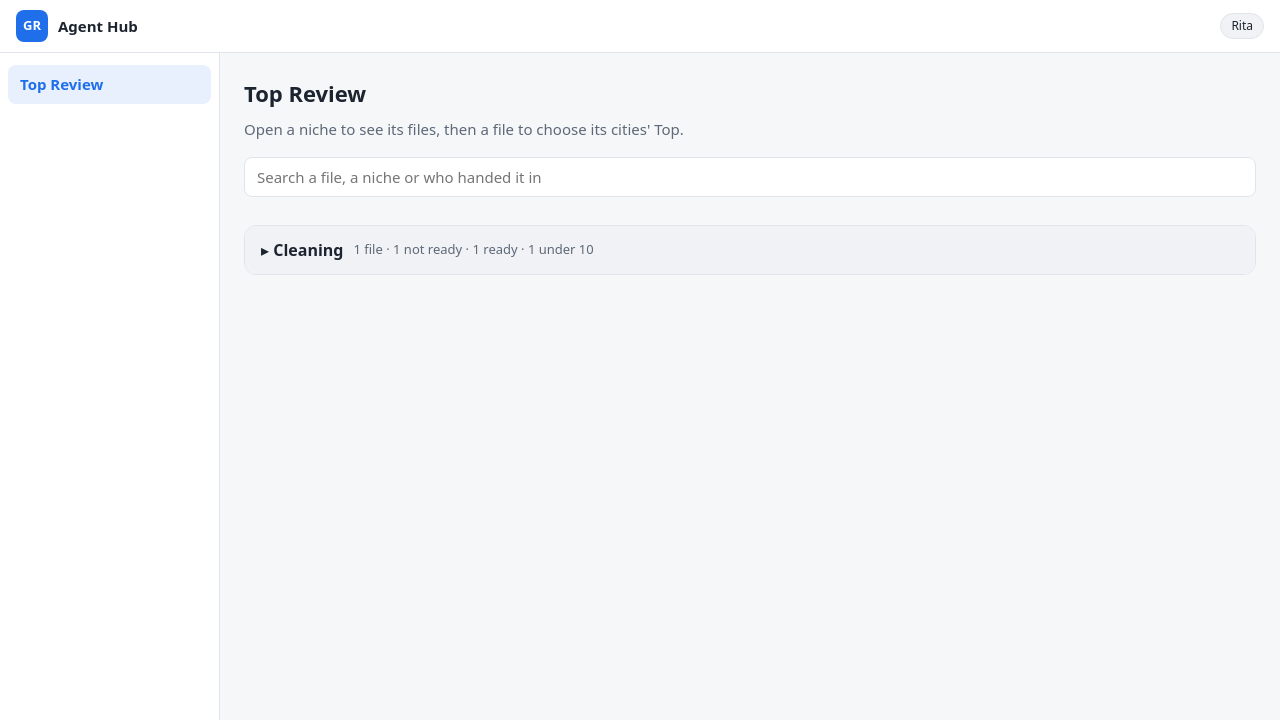
Test: the keyboard ticks and saves: Space, then Enter
The image size is (1280, 720).
Click the button "▸ Cleaning 1 file · 1 not ready · 1 ready · 1 under 10" at (308,250), box x1=245 y1=226 x2=1255 y2=274
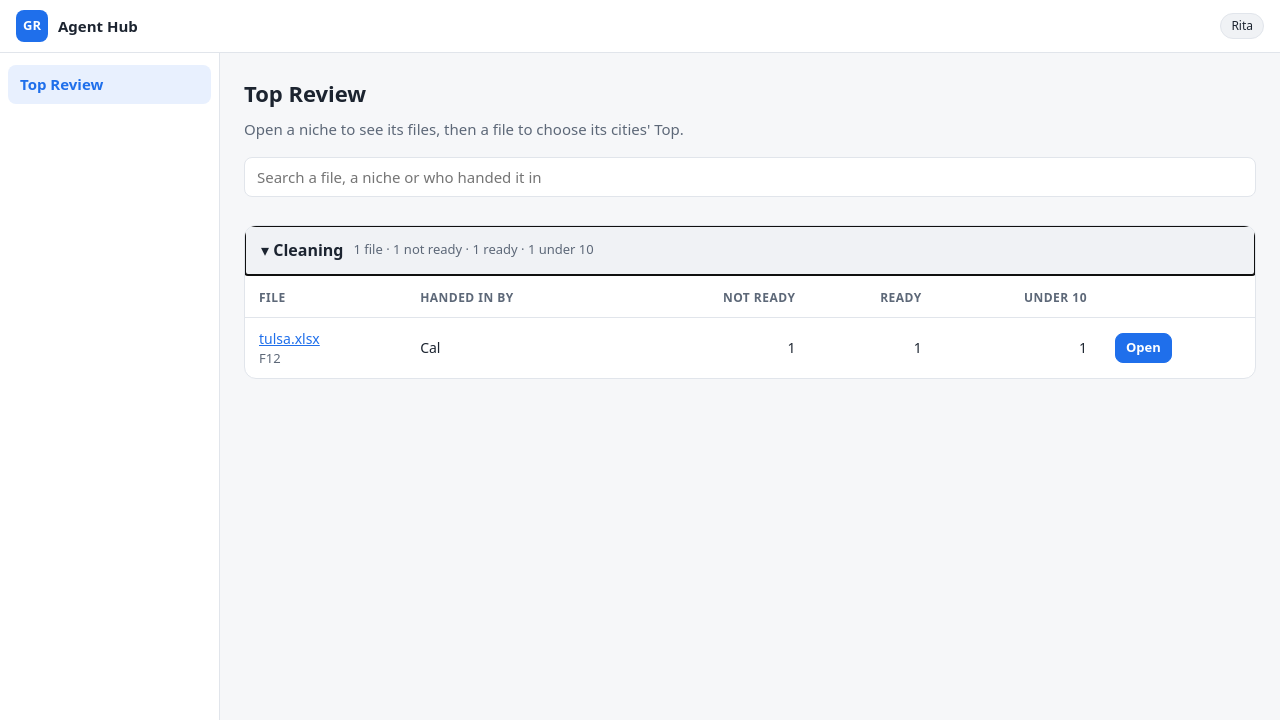
Click the button with aria-label "Open tulsa.xlsx" at (1143,348), box x1=1115 y1=333 x2=1172 y2=362
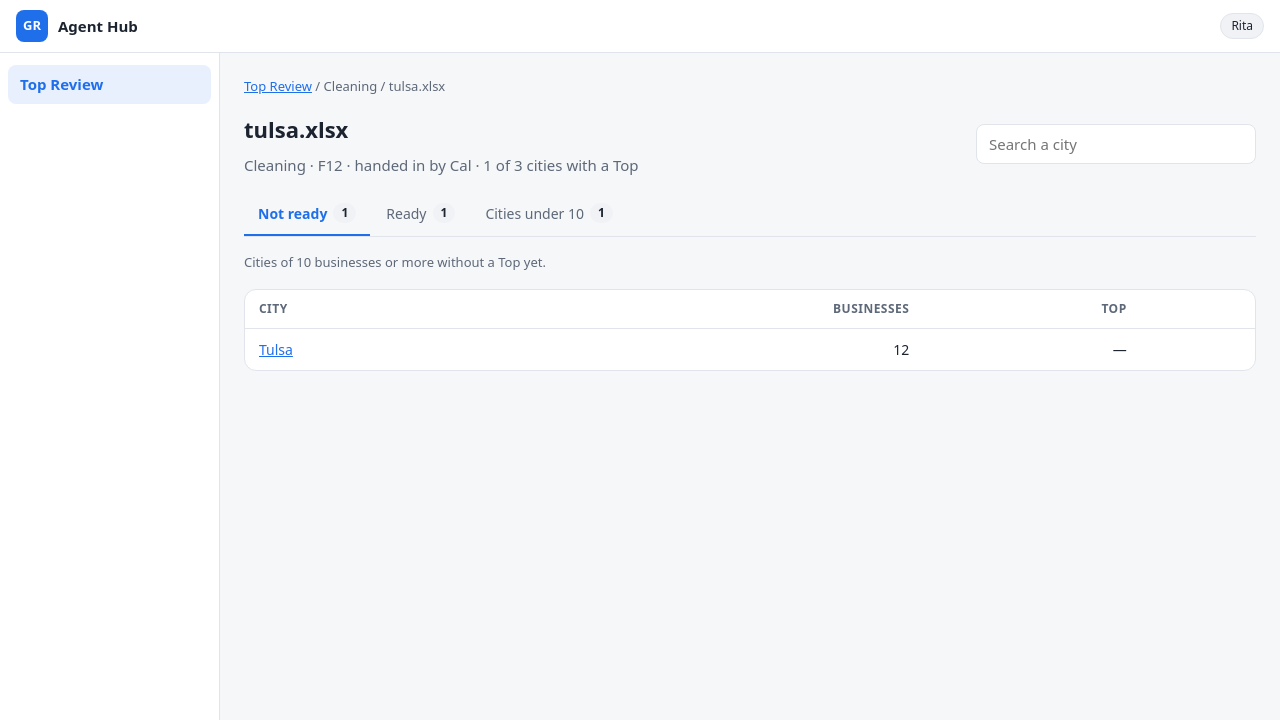
Click the button "Tulsa" at (276,349), box x1=259 y1=338 x2=293 y2=360
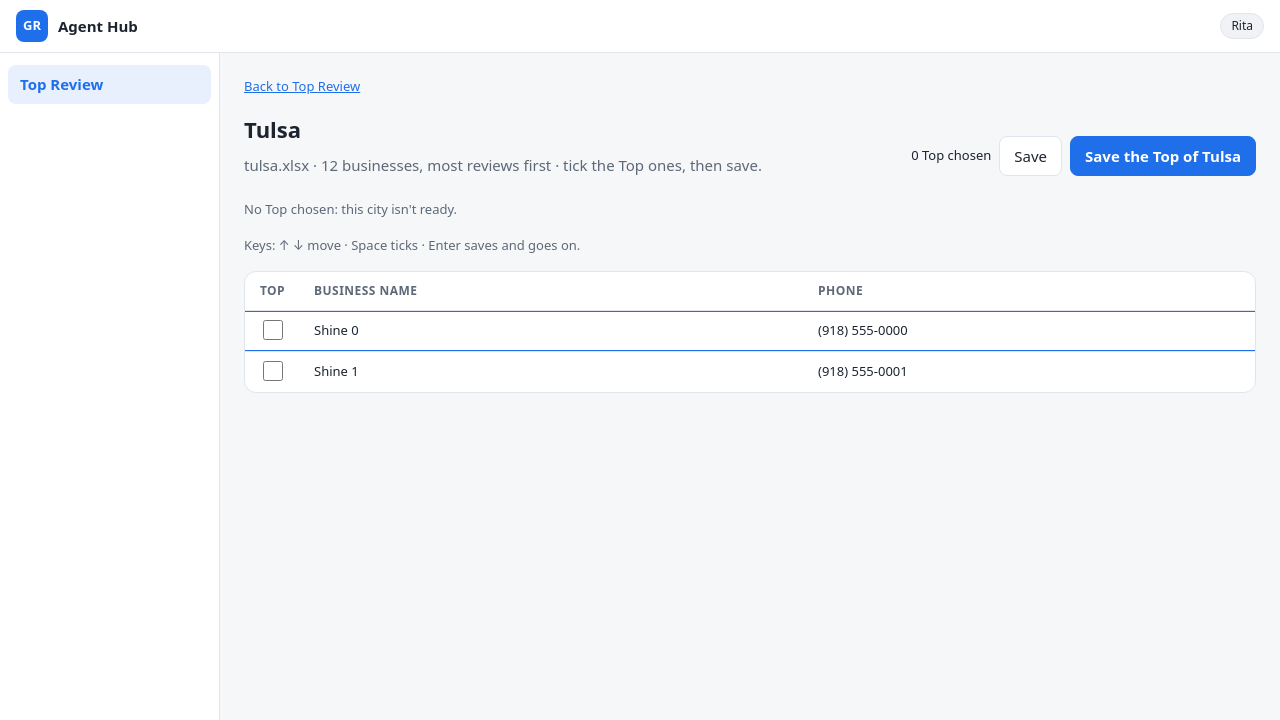
Type keys "{ArrowDown} {Enter}"
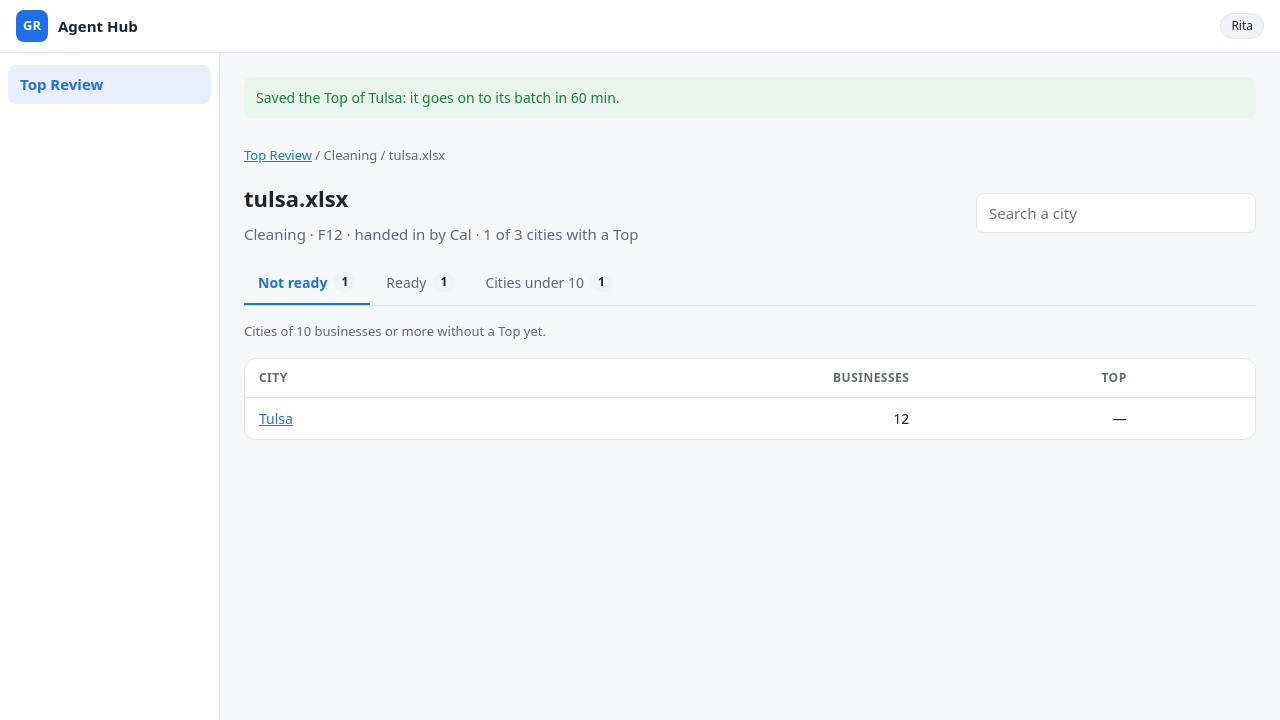
Expected: the text "Saved the Top of Tulsa: it goes on to its batch in 60 min." is shown, x1=244 y1=77 x2=1256 y2=118
